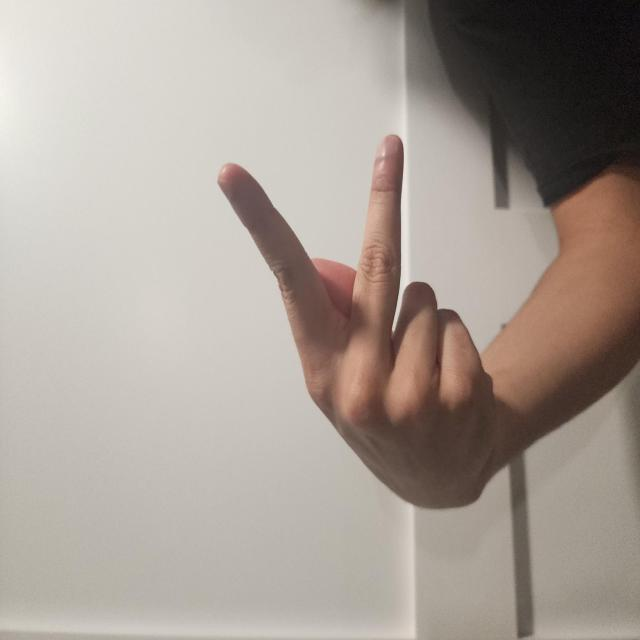K: (92, 286, 383, 640)
